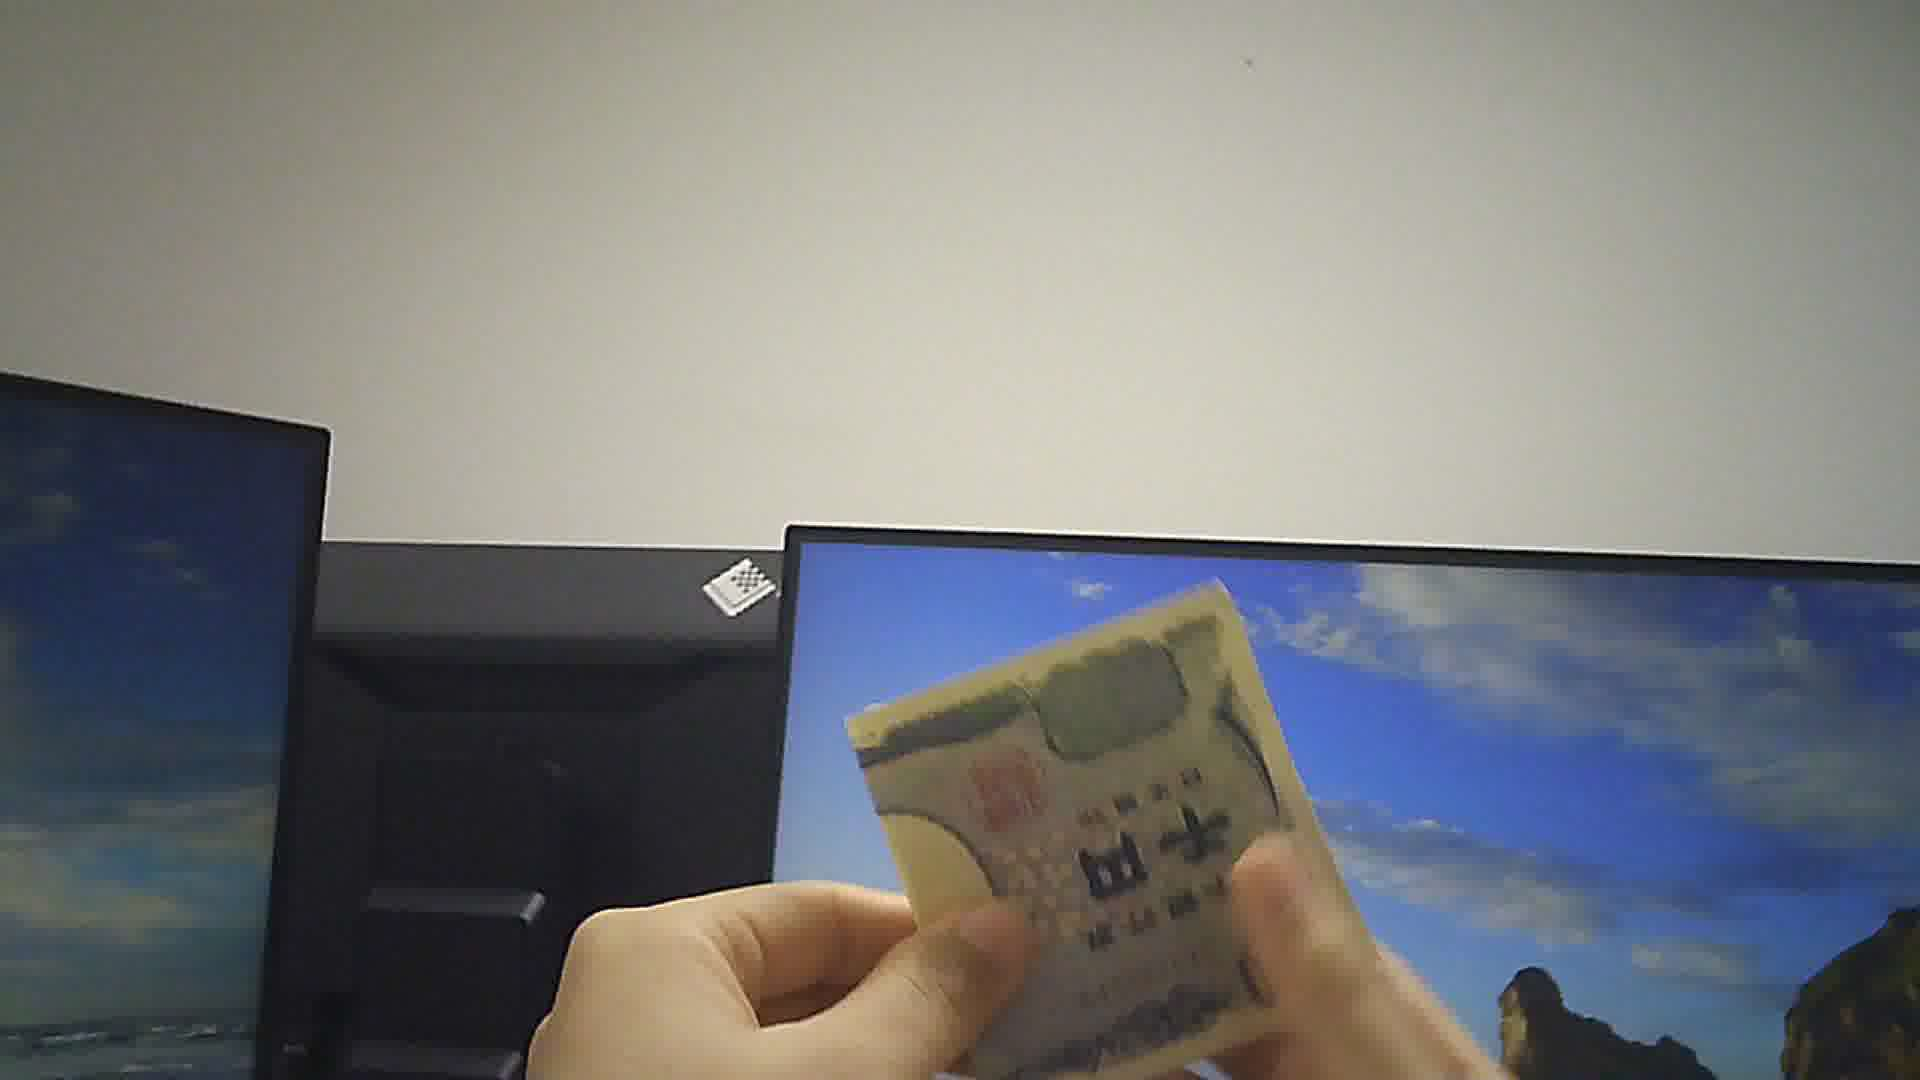1,000 Yen: (833, 588, 1323, 1079)
